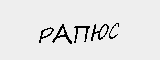А: (52, 22, 71, 46)
П: (73, 22, 90, 45)
Р: (36, 25, 54, 46)
С: (108, 20, 122, 42)
Ю: (90, 19, 108, 44)
